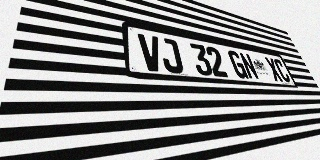2: (204, 46, 228, 77)
3: (189, 43, 214, 76)
C: (272, 58, 292, 82)
G: (227, 50, 249, 79)
J: (158, 37, 184, 74)
N: (238, 52, 260, 80)
V: (137, 33, 164, 72)
X: (264, 57, 284, 82)
